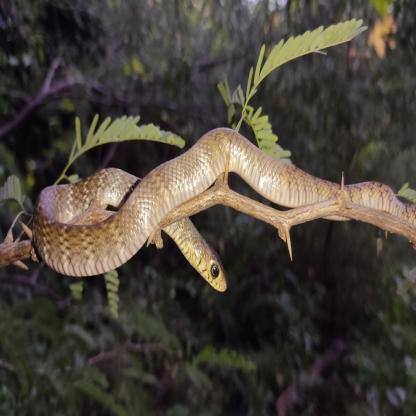Snake: (30, 120, 416, 305), (172, 210, 234, 297)
